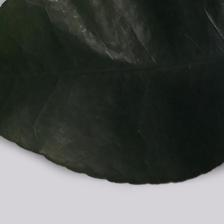healthy: (3, 5, 224, 206)
